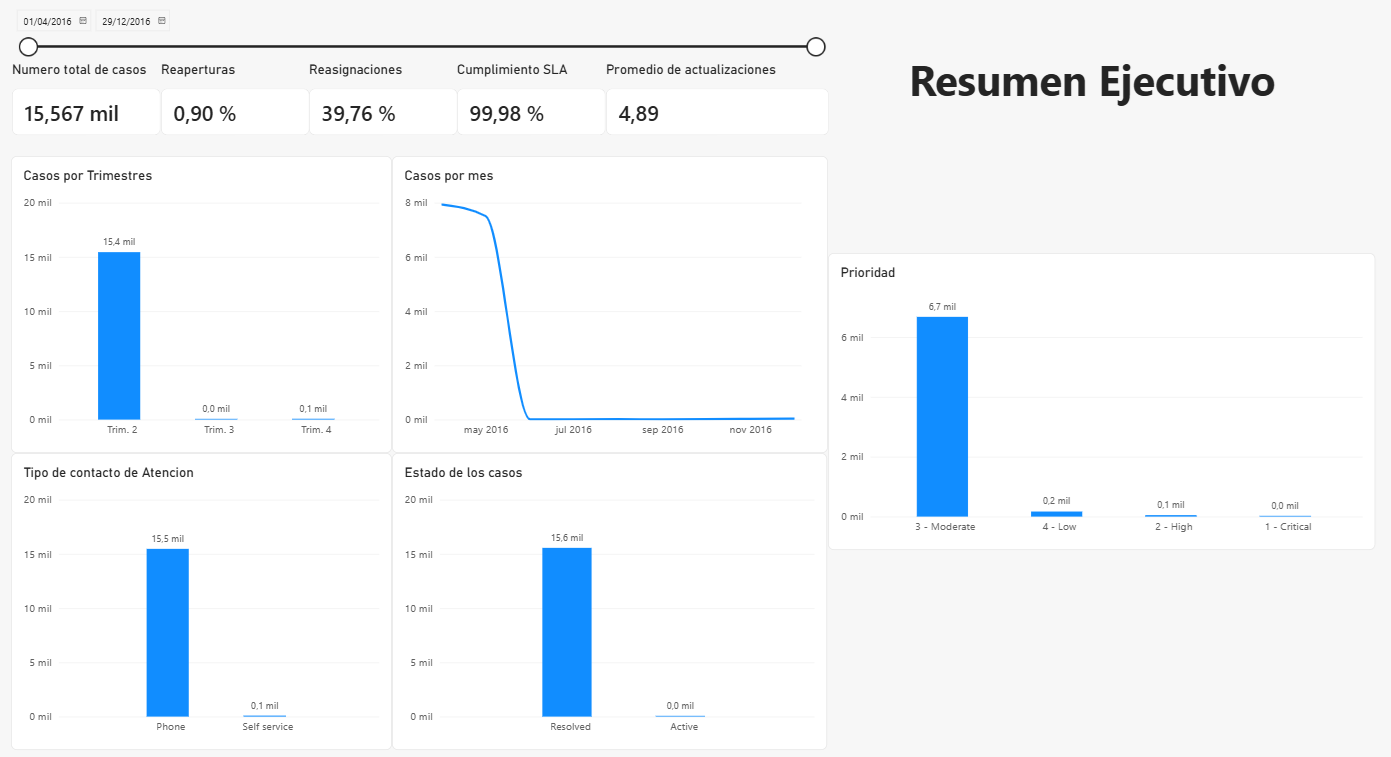

This screenshot's page, from the dashboard's own definition file:
{"tool":"powerbi","page":{"name":"Resumen Ejecutivo","canvas":[1920,1080],"ordinal":0},"visuals":[{"type":"slicer","title":"Intervalo de Revision","fields":{"Values":["incident_powerbi_single.opened_at_date"]},"box":[28.6,50,1100,74.3],"z":0},{"type":"cardVisual","title":"Promedio de actualizaciones","fields":{"Data":["Avg(incident_powerbi_single.sys_mod_count)"]},"box":[829.1,124.6,300,100],"z":1000},{"type":"cardVisual","title":"Numero total de casos","fields":{"Data":["CountNonNull(incident_powerbi_single.number)"]},"box":[29.1,124.6,200,100],"z":2000},{"type":"clusteredColumnChart","title":"Casos por Trimestres","fields":{"Category":["incident_powerbi_single.opened_at_date.Variation.Jerarquía de fechas.Trimestre"],"Y":["CountNonNull(incident_powerbi_single.number)"]},"box":[28.9,251.6,513.3,400],"z":3000},{"type":"cardVisual","title":"Reaperturas","fields":{"Data":["incident_powerbi_single.Porcentaje_reabiertos"]},"box":[229.6,124.4,200,100],"z":4000},{"type":"cardVisual","title":"Reasignaciones","fields":{"Data":["incident_powerbi_single.Porcentaje_reasignados"]},"box":[429.1,124.6,200,100],"z":5000},{"type":"cardVisual","title":"Cumplimiento SLA","fields":{"Data":["incident_powerbi_single.Porcentaje_SLA"]},"box":[629.1,124.6,200,100],"z":6000},{"type":"lineChart","title":"Casos por mes","fields":{"Category":["incident_powerbi_single.opened_at_date.Variation.Jerarquía de fechas.Año","incident_powerbi_single.opened_at_date.Variation.Jerarquía de fechas.Trimestre","incident_powerbi_single.opened_at_date.Variation.Jerarquía de fechas.Mes"],"Y":["CountNonNull(incident_powerbi_single.number)"]},"box":[541.4,251.4,586.7,400],"z":7000},{"type":"clusteredColumnChart","title":"Tipo de contacto de Atencion","fields":{"Category":["incident_powerbi_single.contact_type"],"Y":["CountNonNull(incident_powerbi_single.number)"]},"box":[28.6,651.4,513.3,400],"z":8000},{"type":"clusteredColumnChart","title":"Estado de los casos","fields":{"Category":["incident_powerbi_single.incident_state"],"Y":["CountNonNull(incident_powerbi_single.number)"]},"box":[541.4,651.4,586,400],"z":9000},{"type":"clusteredColumnChart","title":"Prioridad","fields":{"Category":["incident_powerbi_single.priority"],"Y":["CountNonNull(incident_powerbi_single.number)"]},"box":[1128.6,382.9,736.7,400],"z":11000},{"type":"textbox","box":[1237.1,110,520,84.3],"z":12000}]}

Visuals, with their boxes on the page's 1920x1080 design canvas (x1, y1, x2, y2). These are canvas units, not pixel positions in the 1391x757 screenshot, which may show the page scaled, cropped or inside an application window:
"Intervalo de Revision" slicer: 29/50/1129/124
"Promedio de actualizaciones" cardVisual: 829/125/1129/225
"Numero total de casos" cardVisual: 29/125/229/225
"Casos por Trimestres" clusteredColumnChart: 29/252/542/652
"Reaperturas" cardVisual: 230/124/430/224
"Reasignaciones" cardVisual: 429/125/629/225
"Cumplimiento SLA" cardVisual: 629/125/829/225
"Casos por mes" lineChart: 541/251/1128/651
"Tipo de contacto de Atencion" clusteredColumnChart: 29/651/542/1051
"Estado de los casos" clusteredColumnChart: 541/651/1127/1051
"Prioridad" clusteredColumnChart: 1129/383/1865/783
textbox: 1237/110/1757/194
